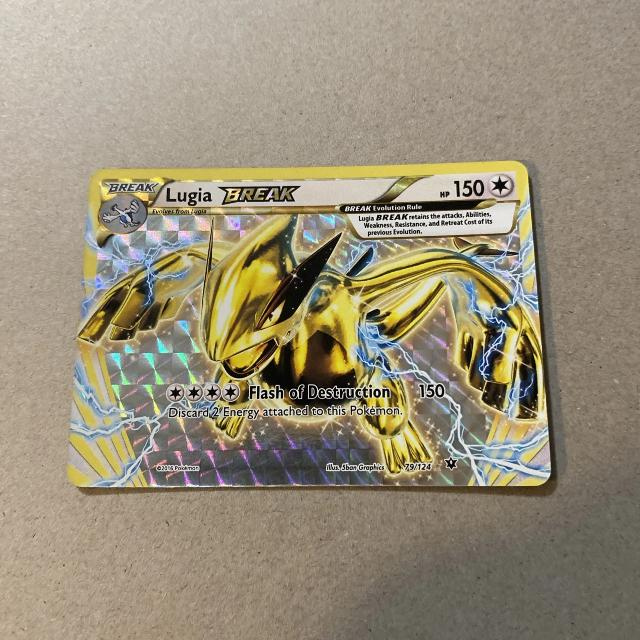Card: (66, 157, 559, 495)
Name: (163, 179, 307, 206)
